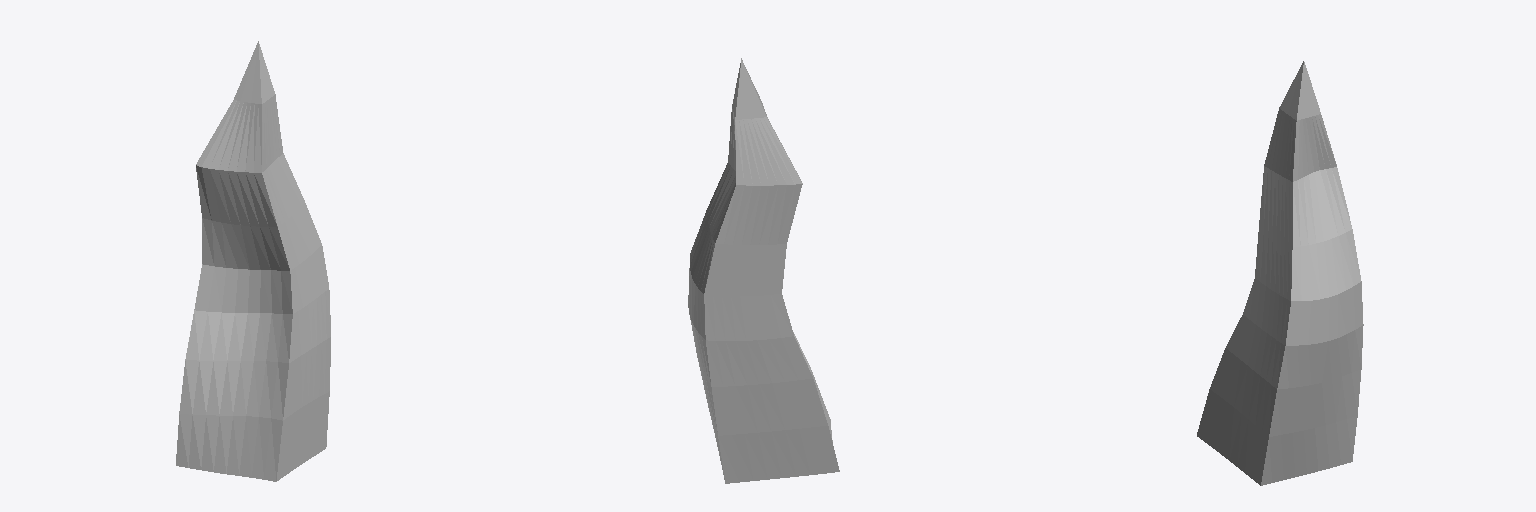
Rendered from SubTool-6-12618708.OBJ.
3 renders of one model, left to right at view 1: azimuth 30°, elevation 25°; view 2: azimuth 150°, elevation 25°; view 3: azimuth 270°, elevation 25°, orthographic.
Visible parts, largest first — view 1: Group28359; view 2: Group28359; view 3: Group28359.
Part boxes in pixels (x1,y1,x2,y2): Group28359: (176,41,330,481); Group28359: (688,58,839,483); Group28359: (1197,61,1363,485).
Size of the model in its own units: 0.7299 by 1.86 by 0.6933.